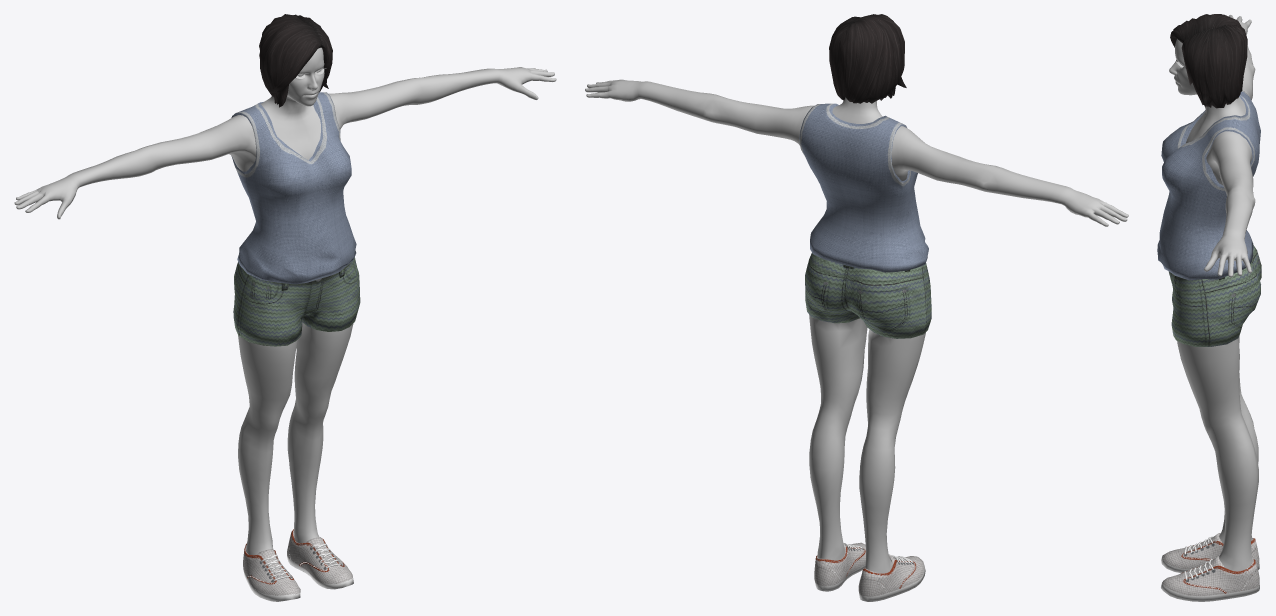
File: kadin1.obj
3 views of the same model, side by side, from view 1: azimuth 30°, elevation 25°; view 2: azimuth 150°, elevation 25°; view 3: azimuth 270°, elevation 25° (orthographic).
Parts seen in each view (by area): view 1: Body, Tops, Bottoms, Shoes, Hair; view 2: Body, Tops, Bottoms, Hair, Shoes; view 3: Body, Tops, Bottoms, Hair, Shoes.
Part boxes in pixels (left/top/right/bottom): Body: left=14, top=47, right=556, bottom=558; Tops: left=231, top=92, right=356, bottom=284; Bottoms: left=233, top=257, right=360, bottom=346; Shoes: left=243, top=529, right=353, bottom=601; Hair: left=259, top=14, right=332, bottom=107; Body: left=585, top=79, right=1128, bottom=582; Tops: left=799, top=103, right=928, bottom=272; Bottoms: left=805, top=253, right=931, bottom=338; Hair: left=829, top=14, right=906, bottom=103; Shoes: left=814, top=542, right=925, bottom=601; Body: left=1169, top=15, right=1258, bottom=573; Tops: left=1157, top=90, right=1260, bottom=280; Bottoms: left=1168, top=245, right=1261, bottom=346; Hair: left=1170, top=14, right=1247, bottom=108; Shoes: left=1161, top=533, right=1259, bottom=601.
Bounding box in the file's own units: 179 × 178 × 29.94.
